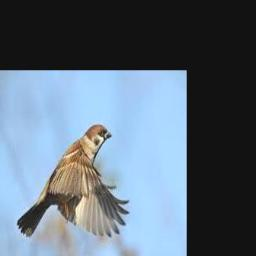Sparrow: (18, 124, 130, 239)
